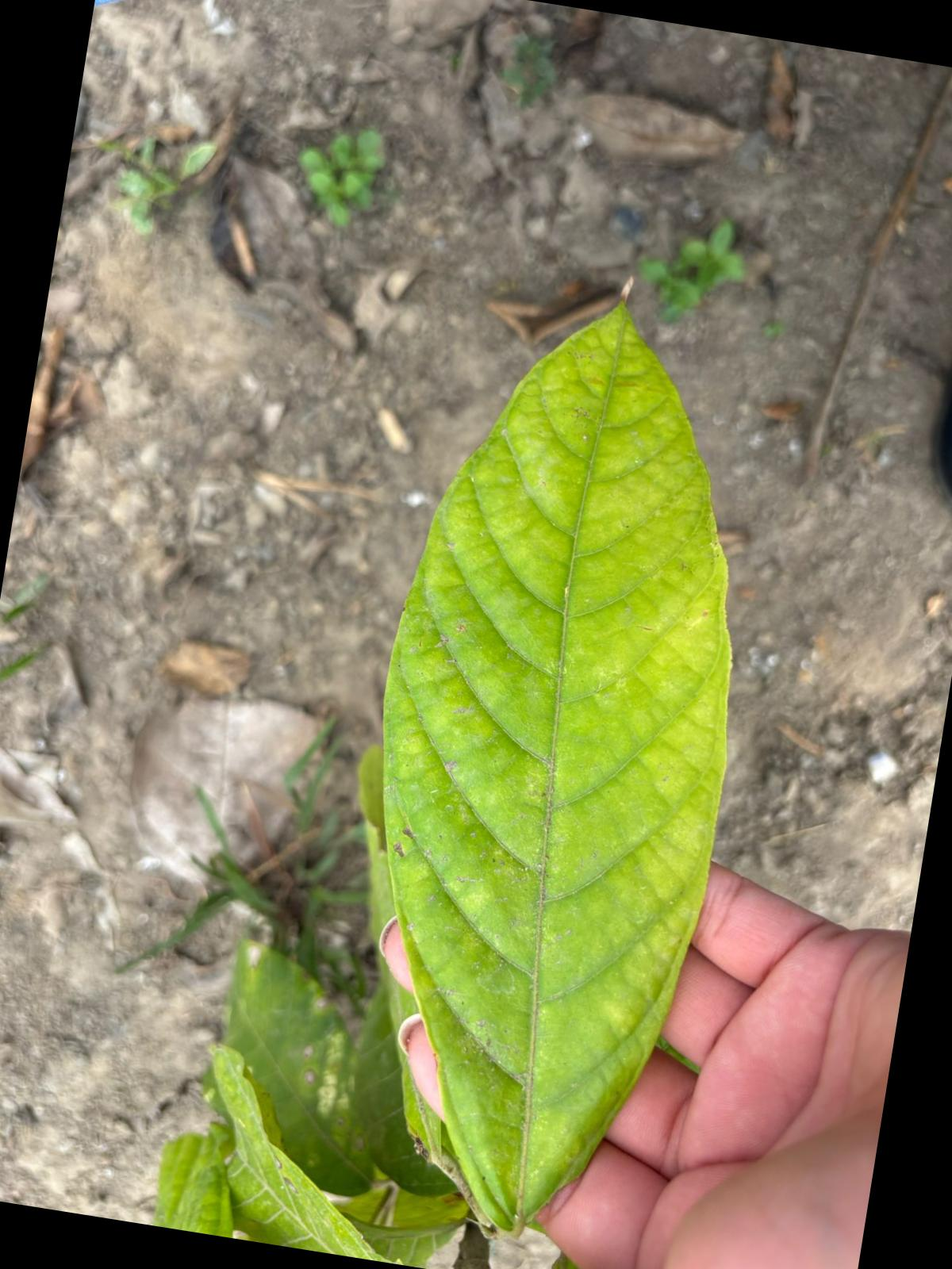Nitrogeno: (383, 305, 731, 1234)
